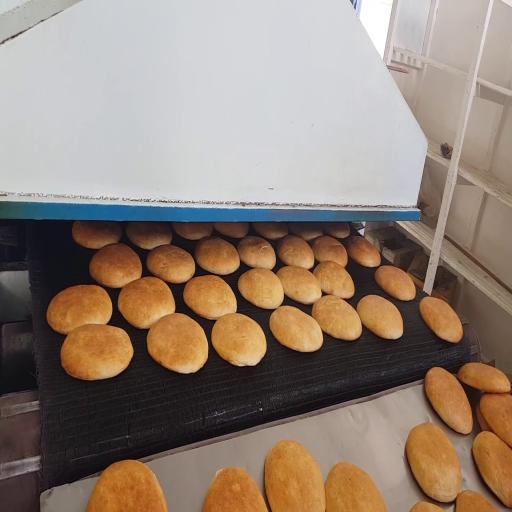bread: (406, 423, 461, 502), (265, 440, 325, 511), (86, 460, 167, 511), (61, 324, 133, 380), (147, 313, 208, 373), (425, 367, 473, 434), (47, 285, 112, 334), (118, 277, 175, 329), (326, 463, 387, 511), (473, 431, 511, 507), (212, 313, 266, 366), (203, 468, 267, 511), (270, 306, 323, 352), (183, 275, 236, 319), (90, 244, 142, 288), (312, 295, 361, 340), (357, 295, 403, 339), (420, 297, 462, 342), (238, 268, 283, 309), (147, 245, 195, 283), (195, 237, 239, 275), (277, 266, 321, 304), (480, 394, 511, 446), (458, 363, 510, 393), (314, 261, 354, 299), (72, 221, 122, 249), (375, 266, 415, 301), (126, 222, 172, 250), (237, 236, 275, 269), (278, 235, 314, 269), (312, 236, 347, 267), (348, 236, 380, 267), (456, 490, 497, 511), (172, 222, 213, 240), (253, 222, 288, 240), (289, 223, 322, 241), (214, 222, 248, 238), (323, 222, 350, 238), (476, 404, 491, 431), (410, 502, 443, 511)
